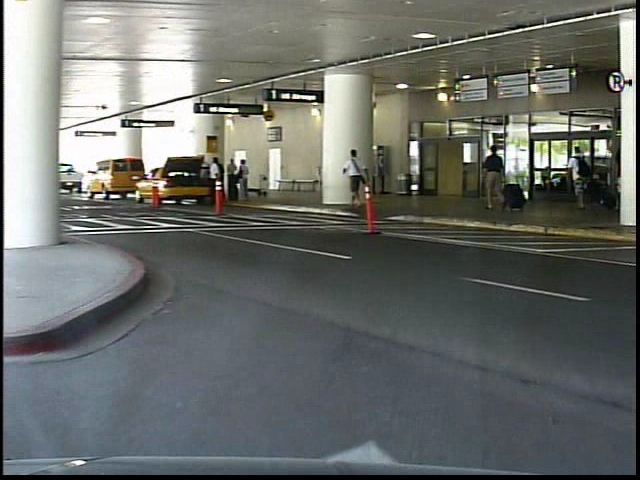person: (563, 138, 600, 220), (349, 145, 378, 212), (482, 144, 510, 212)
